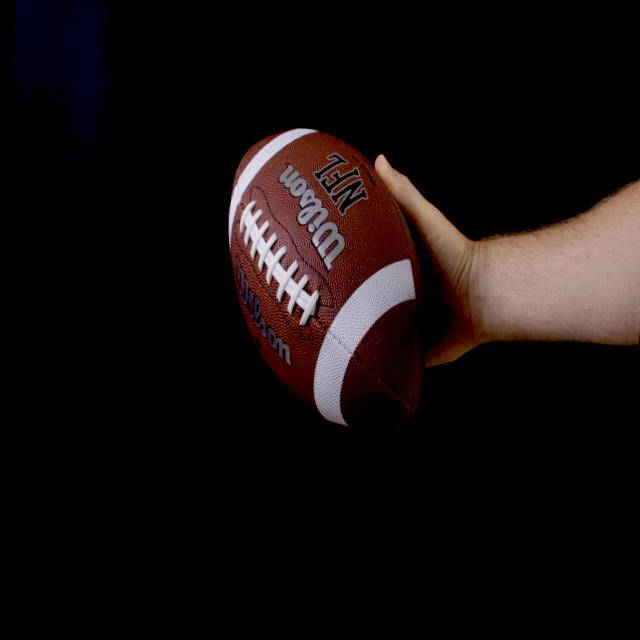ball: (205, 102, 450, 444)
